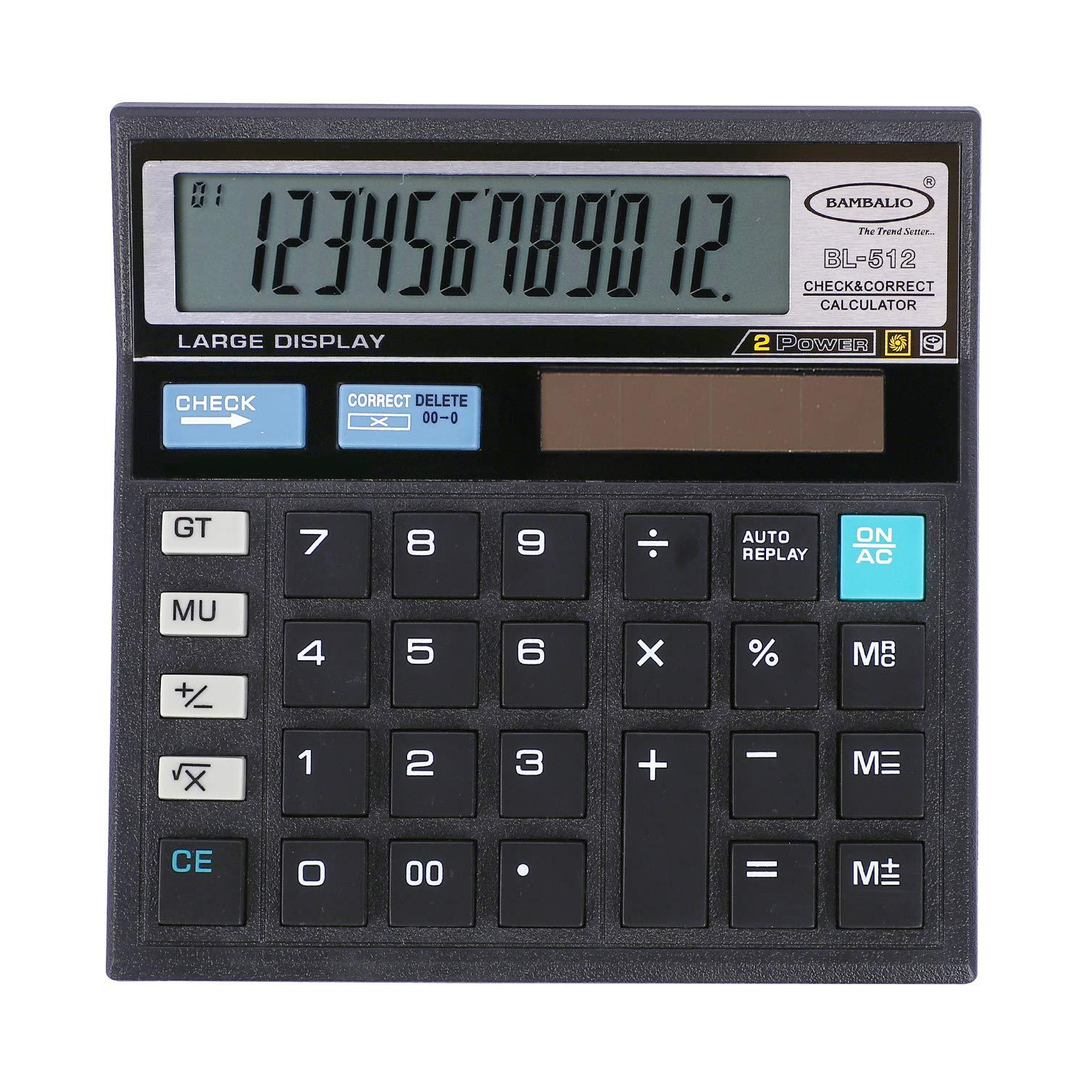Calculator: (48, 56, 1047, 1047)
